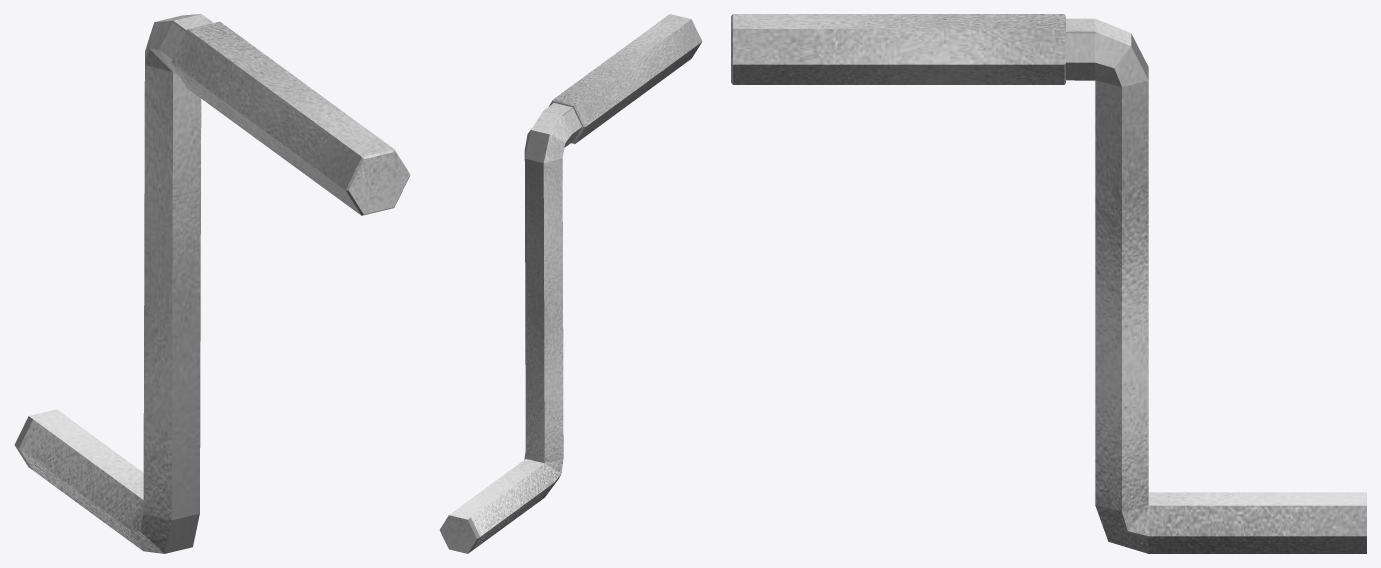
Rendered from Manivela.obj.
3 views of the same model, side by side, from view 1: azimuth 30°, elevation 25°; view 2: azimuth 150°, elevation 25°; view 3: azimuth 270°, elevation 25° (orthographic). The views are drawn at different scales.
Visible parts, largest first — view 1: Gramofono:polymsh72; view 2: Gramofono:polymsh72; view 3: Gramofono:polymsh72.
Boxes of the visible parts, x1,y1,x2,y2 form: Gramofono:polymsh72: [14, 14, 410, 553]; Gramofono:polymsh72: [439, 14, 702, 553]; Gramofono:polymsh72: [731, 14, 1366, 553].
Bounding box in the file's own units: 0.0284 × 0.2319 × 0.2537.
1 material, 1 textured.
